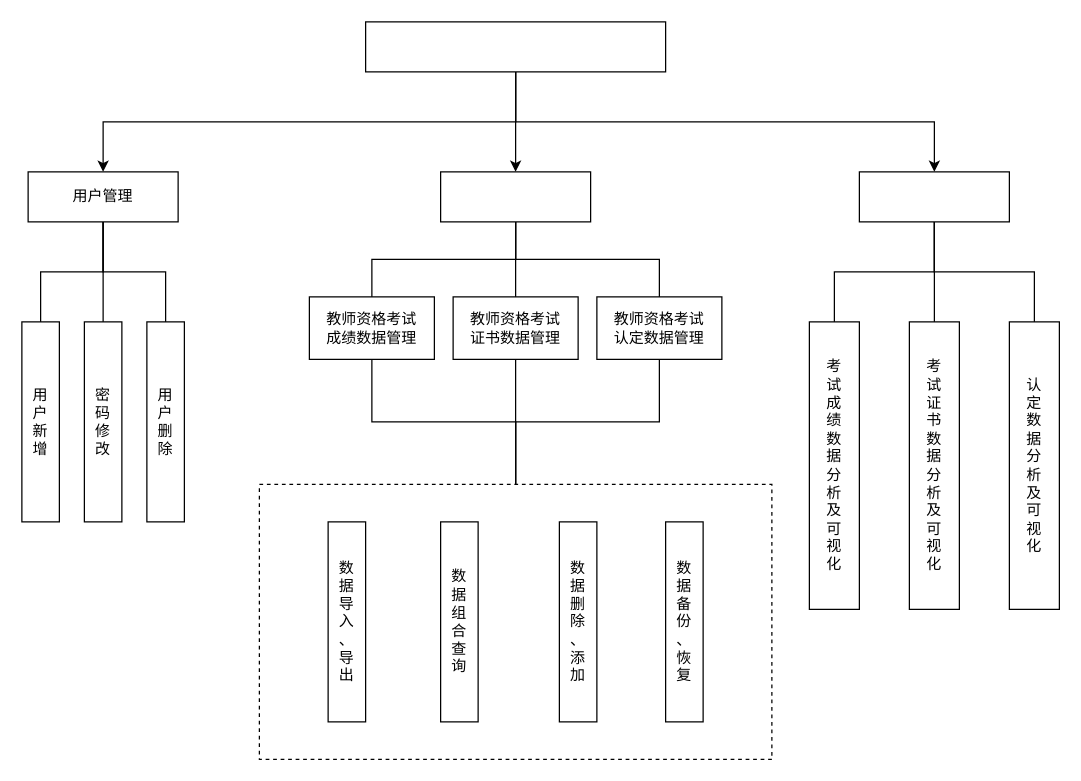
This 1081x781 diagram has some shape labels left out. Each missing label, with the centre of its shape:
"数据分析" goes at point (933, 196).
"数据管理" goes at point (515, 196).
"河北省教师资格考试数据分析系统" goes at point (515, 46).
